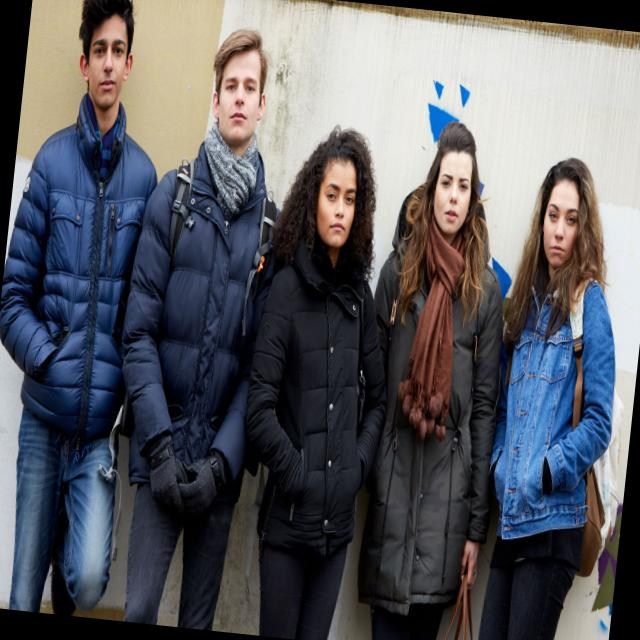Jacket: (336, 224, 523, 616), (115, 140, 292, 526), (0, 92, 168, 461), (480, 253, 633, 564), (233, 250, 390, 542)
